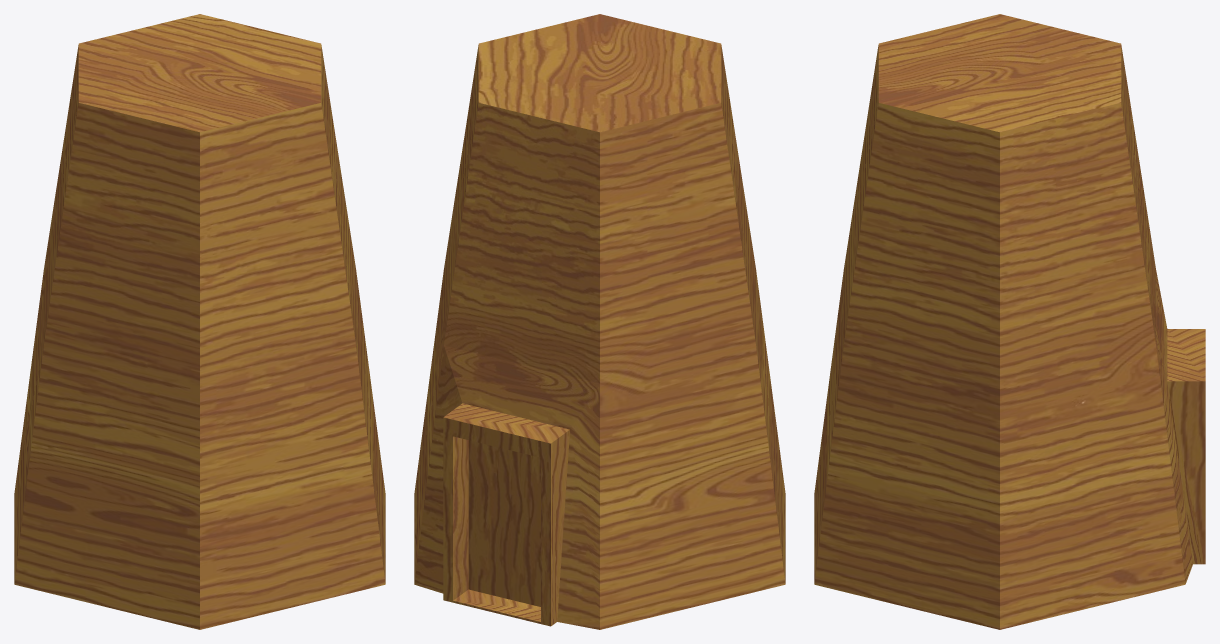
The model's file is windmill-base.obj.
3 views of the same model, side by side, from view 1: azimuth 30°, elevation 25°; view 2: azimuth 150°, elevation 25°; view 3: azimuth 270°, elevation 25° (orthographic).
Parts seen in each view (by area): view 1: pCylinder1; view 2: pCylinder1; view 3: pCylinder1.
Boxes of the visible parts, x1,y1,x2,y2 form: pCylinder1: (14, 14, 385, 629); pCylinder1: (414, 14, 785, 629); pCylinder1: (814, 14, 1205, 629).
Size of the model in its own units: 6.74 by 8.08 by 6.15.
Materials: 3 (3 with a texture image).
